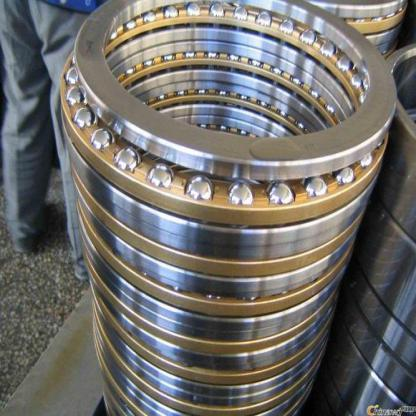FOD: (56, 0, 398, 228)
